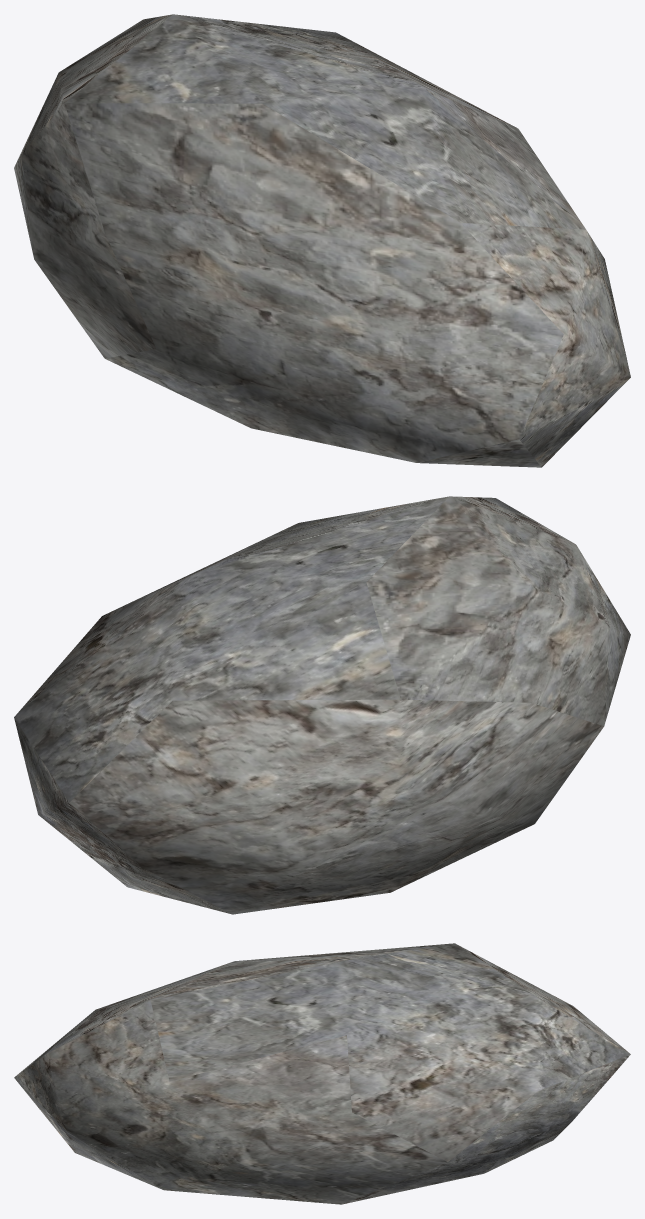
File: Rock 1.fbx
3 renders of one model, top to bottom at view 1: azimuth 30°, elevation 25°; view 2: azimuth 150°, elevation 25°; view 3: azimuth 270°, elevation 25°, orthographic. The views are drawn at different scales.
Visible parts, largest first — view 1: Rock; view 2: Rock; view 3: Rock.
Boxes of the visible parts, x1,y1,x2,y2 form: Rock: [14, 14, 630, 467]; Rock: [14, 496, 630, 914]; Rock: [14, 943, 630, 1204].
Bounding box in the file's own units: 3.38 × 2.05 × 5.97.
